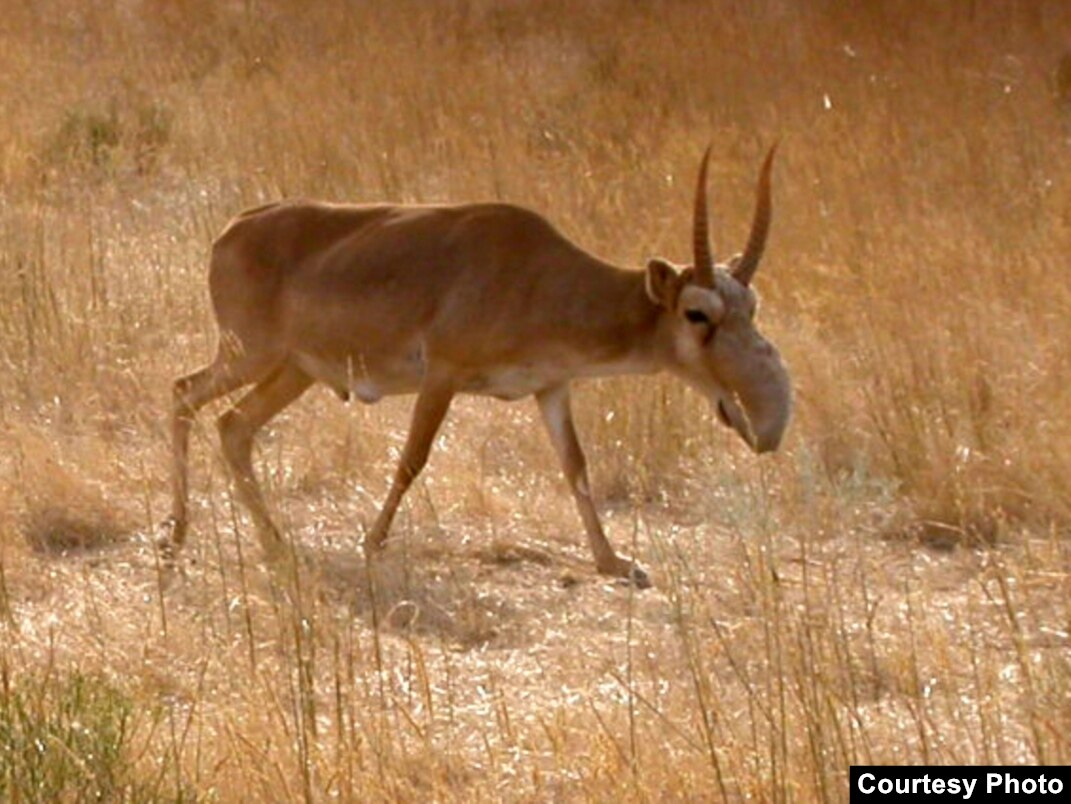saiga: (163, 133, 796, 611)
